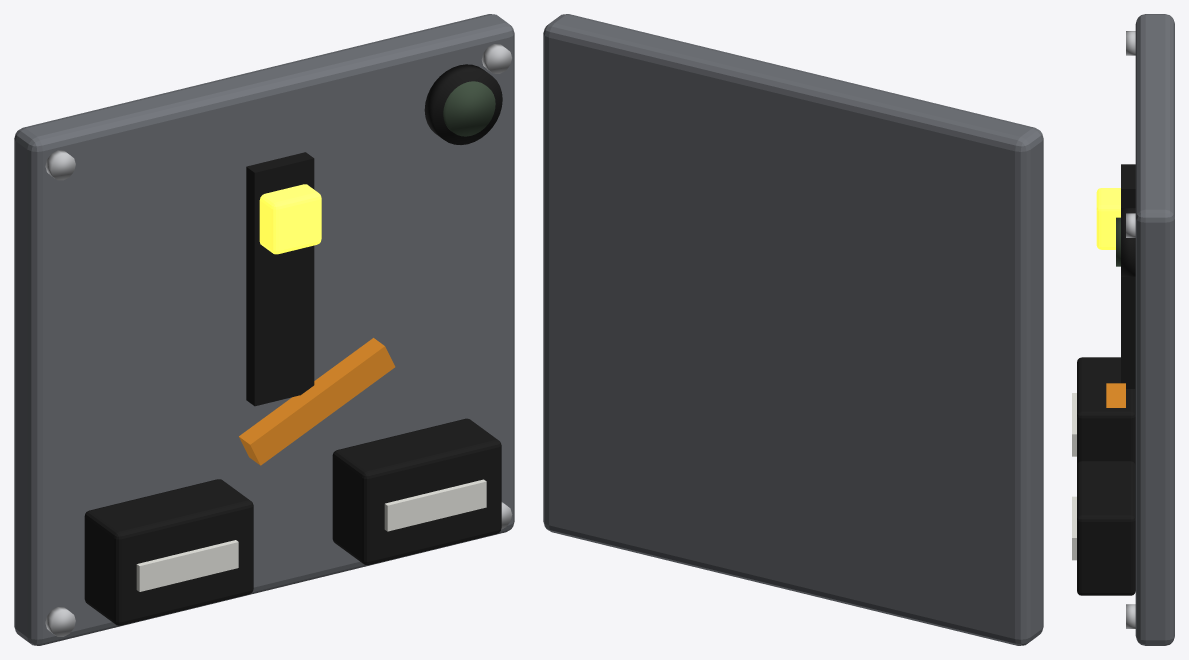
Rendered from sorter.glb.
3 renders of one model, left to right at view 1: azimuth 30°, elevation 25°; view 2: azimuth 150°, elevation 25°; view 3: azimuth 270°, elevation 25°, orthographic. The views are drawn at different scales.
Visible parts, largest first — view 1: sorter_Plate, sorter_Bin1, sorter_Bin0, sorter_Track, sorter_Lever, sorter_Item, sorter_BinLabel1, sorter_BinLabel0, sorter_StatusRing, sorter_StatusLED, sorter_Screw.001, sorter_Screw (+1 smaller); view 2: sorter_Plate; view 3: sorter_Plate, sorter_Bin1, sorter_Bin0, sorter_Track, sorter_Item, sorter_StatusRing, sorter_Lever, sorter_BinLabel1, sorter_BinLabel0, sorter_Screw.001, sorter_Screw.002, sorter_Screw.003 (+1 smaller).
Part boxes in pixels (x1=…): sorter_Plate: x1=14, y1=14, x2=514, y2=645; sorter_Bin1: x1=332, y1=418, x2=501, y2=564; sorter_Bin0: x1=84, y1=479, x2=253, y2=625; sorter_Track: x1=246, y1=152, x2=314, y2=406; sorter_Lever: x1=239, y1=338, x2=395, y2=465; sorter_Item: x1=259, y1=184, x2=321, y2=254; sorter_BinLabel1: x1=384, y1=479, x2=486, y2=531; sorter_BinLabel0: x1=136, y1=540, x2=238, y2=591; sorter_StatusRing: x1=424, y1=64, x2=502, y2=144; sorter_StatusLED: x1=443, y1=81, x2=495, y2=136; sorter_Screw.001: x1=45, y1=150, x2=75, y2=180; sorter_Screw: x1=45, y1=607, x2=75, y2=636; sorter_Plate: x1=543, y1=14, x2=1043, y2=645; sorter_Plate: x1=1135, y1=14, x2=1174, y2=645; sorter_Bin1: x1=1077, y1=461, x2=1135, y2=595; sorter_Bin0: x1=1077, y1=357, x2=1135, y2=464; sorter_Track: x1=1121, y1=164, x2=1135, y2=388; sorter_Item: x1=1096, y1=188, x2=1120, y2=249; sorter_StatusRing: x1=1121, y1=208, x2=1135, y2=276; sorter_Lever: x1=1106, y1=383, x2=1125, y2=407; sorter_BinLabel1: x1=1072, y1=496, x2=1076, y2=560; sorter_BinLabel0: x1=1072, y1=393, x2=1076, y2=456; sorter_Screw.001: x1=1126, y1=31, x2=1135, y2=55; sorter_Screw.002: x1=1126, y1=604, x2=1135, y2=628; sorter_Screw.003: x1=1126, y1=213, x2=1135, y2=237.
Size of the model in its own units: 0.98 by 0.98 by 0.21.
